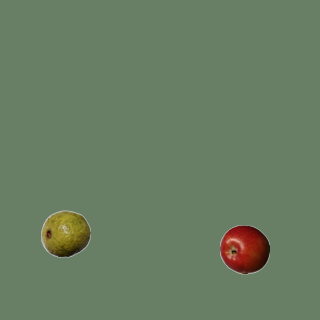Apple Braeburn: (219, 224, 269, 274)
Guava: (40, 208, 90, 258)
